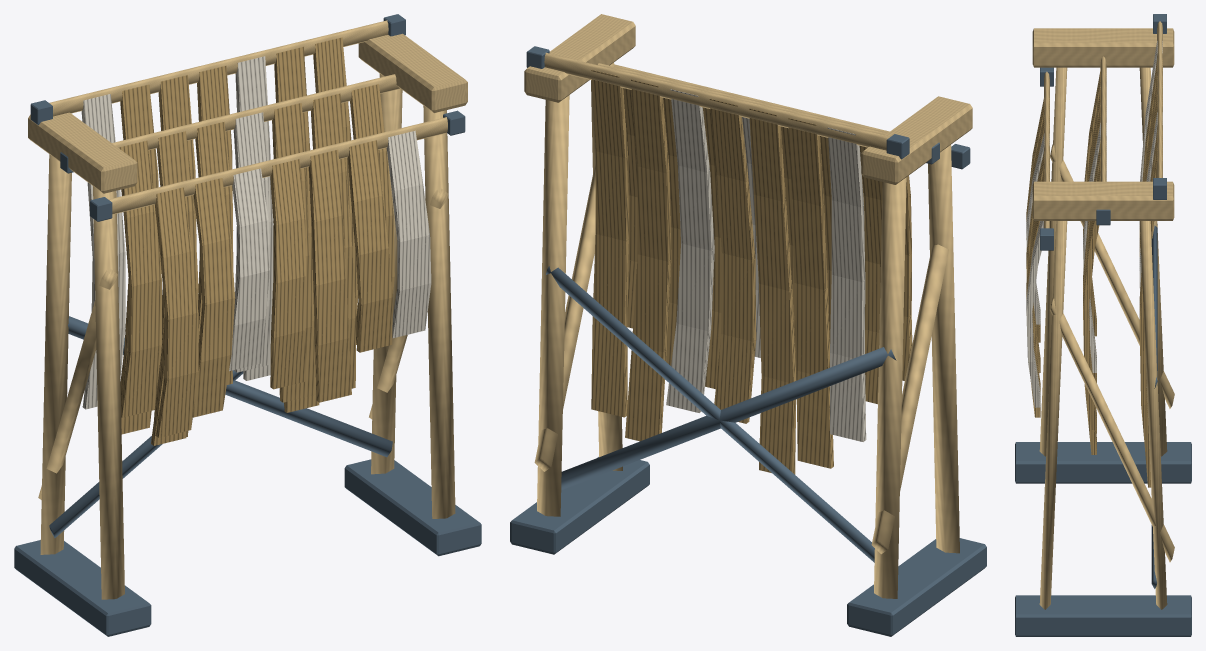
The model's file is s06-noodle-loom-balanced.glb.
3 renders of one model, left to right at view 1: azimuth 30°, elevation 25°; view 2: azimuth 150°, elevation 25°; view 3: azimuth 270°, elevation 25°, orthographic. The views are drawn at different scales.
Visible parts, largest first — view 1: Beech trestles, Front ribbon bank, Middle ribbon bank, Rear ribbon bank, Drying combs; view 2: Rear ribbon bank, Beech trestles, Middle ribbon bank, Drying combs, Front ribbon bank; view 3: Beech trestles, Drying combs, Middle ribbon bank, Front ribbon bank, Rear ribbon bank.
Boxes of the visible parts, x1,y1,x2,y2 form: Beech trestles: [14, 33, 481, 636]; Front ribbon bank: [154, 130, 431, 437]; Middle ribbon bank: [119, 84, 394, 445]; Rear ribbon bank: [81, 37, 358, 436]; Drying combs: [30, 14, 465, 221]; Rear ribbon bank: [591, 70, 866, 474]; Beech trestles: [510, 14, 986, 636]; Middle ribbon bank: [623, 88, 882, 404]; Drying combs: [526, 46, 970, 169]; Front ribbon bank: [902, 175, 912, 380]; Beech trestles: [1015, 28, 1191, 636]; Drying combs: [1040, 14, 1166, 250]; Middle ribbon bank: [1083, 69, 1106, 454]; Front ribbon bank: [1026, 97, 1049, 417]; Rear ribbon bank: [1139, 41, 1162, 487].
Bounding box in the file's own units: 2.45 × 2.96 × 1.05.
Materials: 1 (1 with a texture image).
